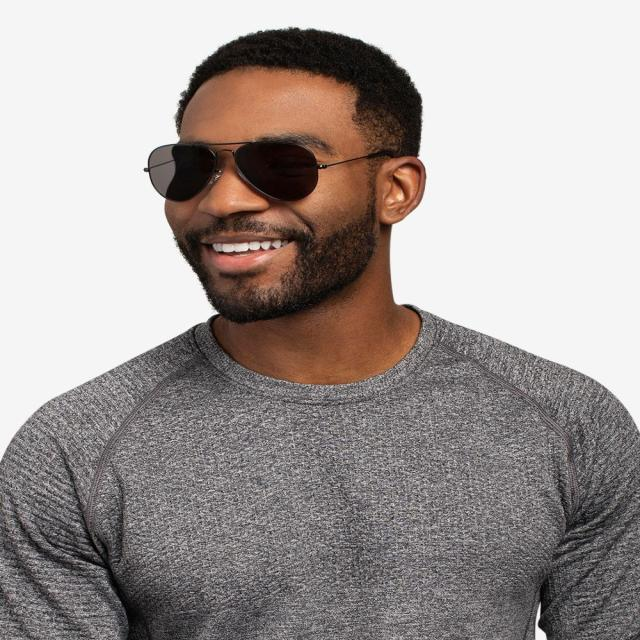2_gafas: (142, 140, 396, 203)
